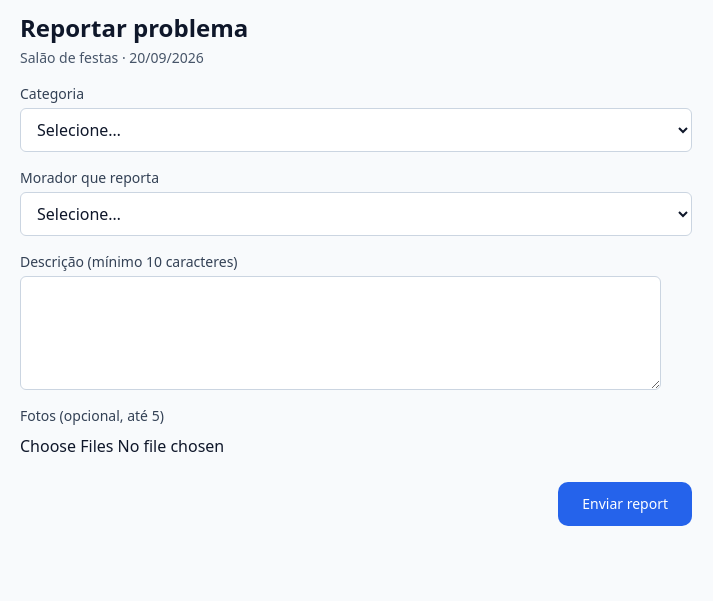
Test: ReportFormPage (RF-REP-01, RN-35) › mostra o detail do erro da API quando o envio falha
Select "Dano/algo quebrado" in the dropdown labelled "Categoria" at {"x": 356, "y": 130}, box [20,108,692,152]
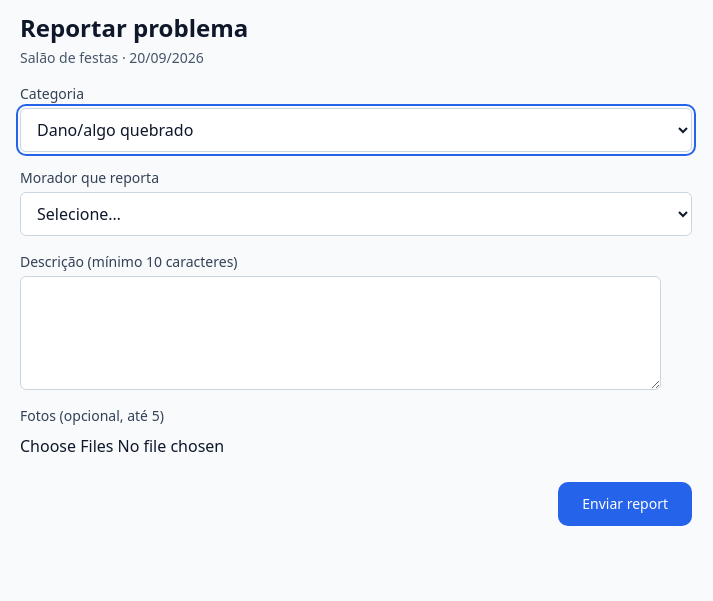
Select "Maria Souza" in the dropdown labelled "Morador que reporta" at {"x": 356, "y": 214}, box [20,192,692,236]
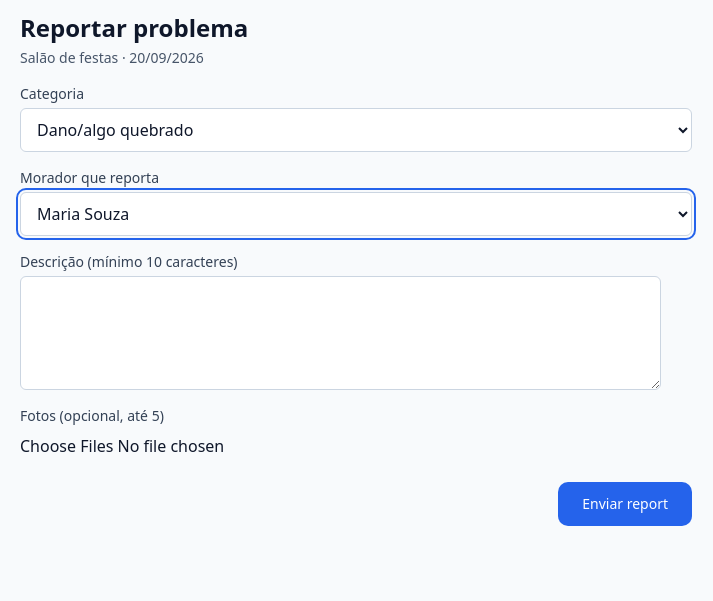
Type "A churrasqueira está com a grelha quebrada." into the text box labelled "Descrição (mínimo 10 caracteres)" at {"x": 340, "y": 333}, box [20,276,661,390]
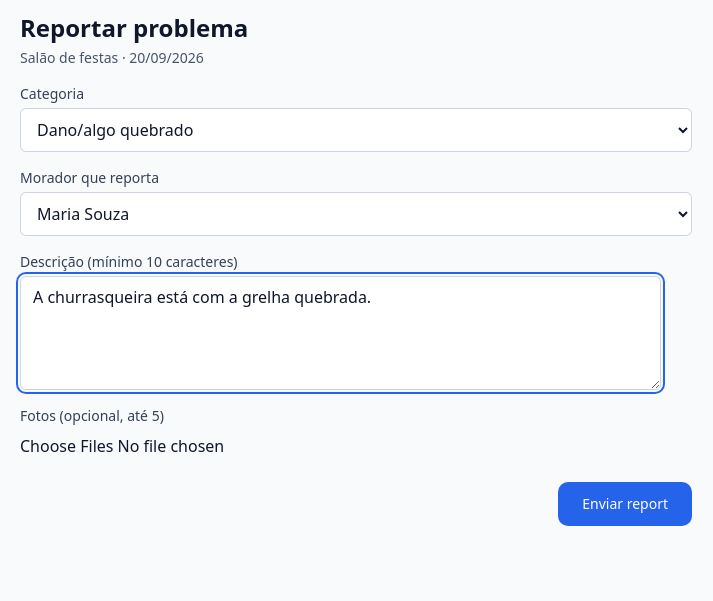
Click the button "Enviar report" at {"x": 625, "y": 504}, box [558,482,692,526]
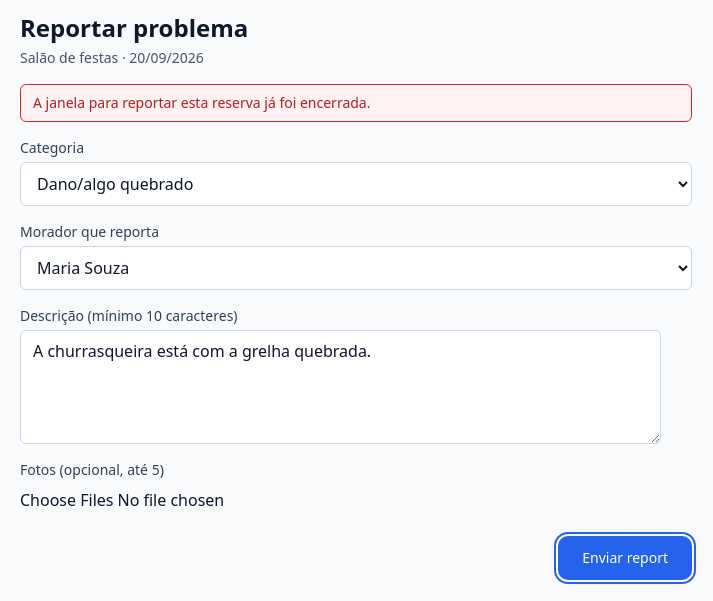
Now the text "A janela para reportar esta reserva já foi encerrada." is shown, box [20,84,692,122]
